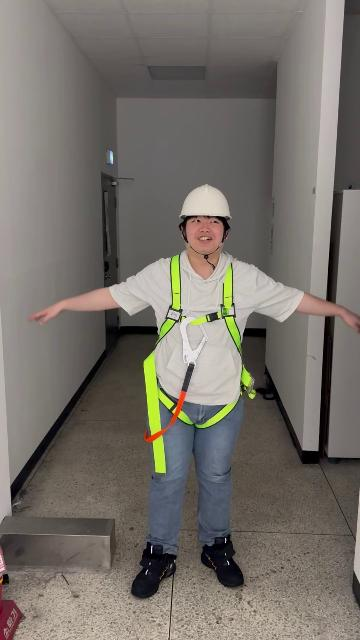helmet_worn: (181, 182, 231, 257)
shoe_worn: (198, 537, 249, 589), (131, 544, 177, 598)
vest_worn: (142, 254, 259, 429)
